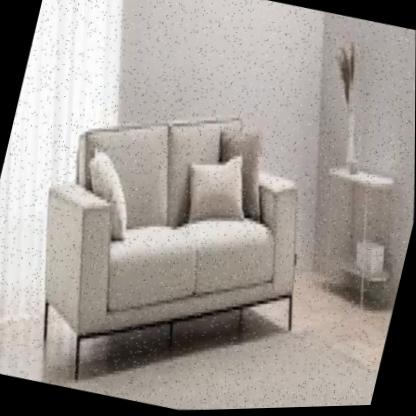Sofa: (0, 41, 367, 416)
